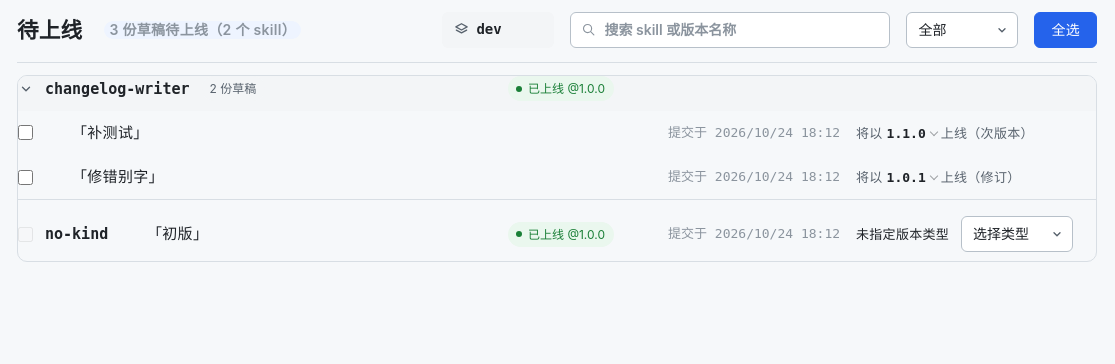
Scenario: the queue › selects the newest draft of each skill and never two drafts of one skill
The width and height of the screenshot is (1115, 364).
Click the button "全选" at (1066, 30), box [1034,12,1097,48]
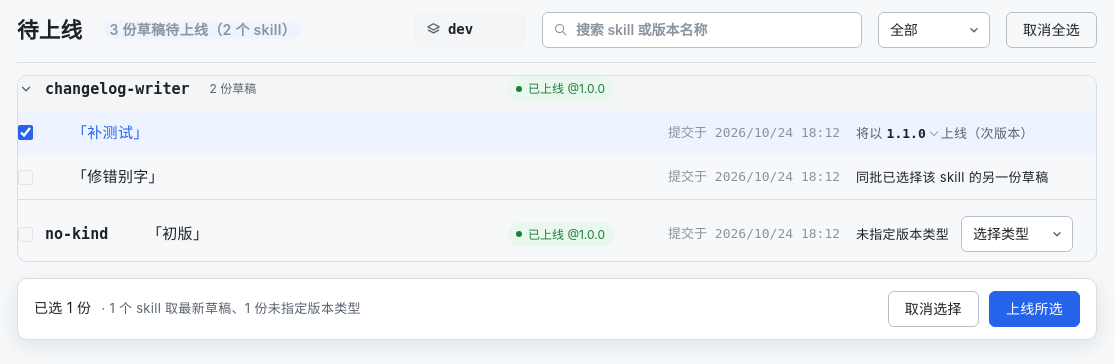
Now the text with class "select-count" reads "已选 1 份", box [34,300,91,316]
Now the text "1 个 skill 取最新草稿、1 份未指定版本类型" is shown, box [101,300,361,316]
Now the checkbox named "选择 changelog-writer 的「补测试」" is checked, box [18,126,33,140]
